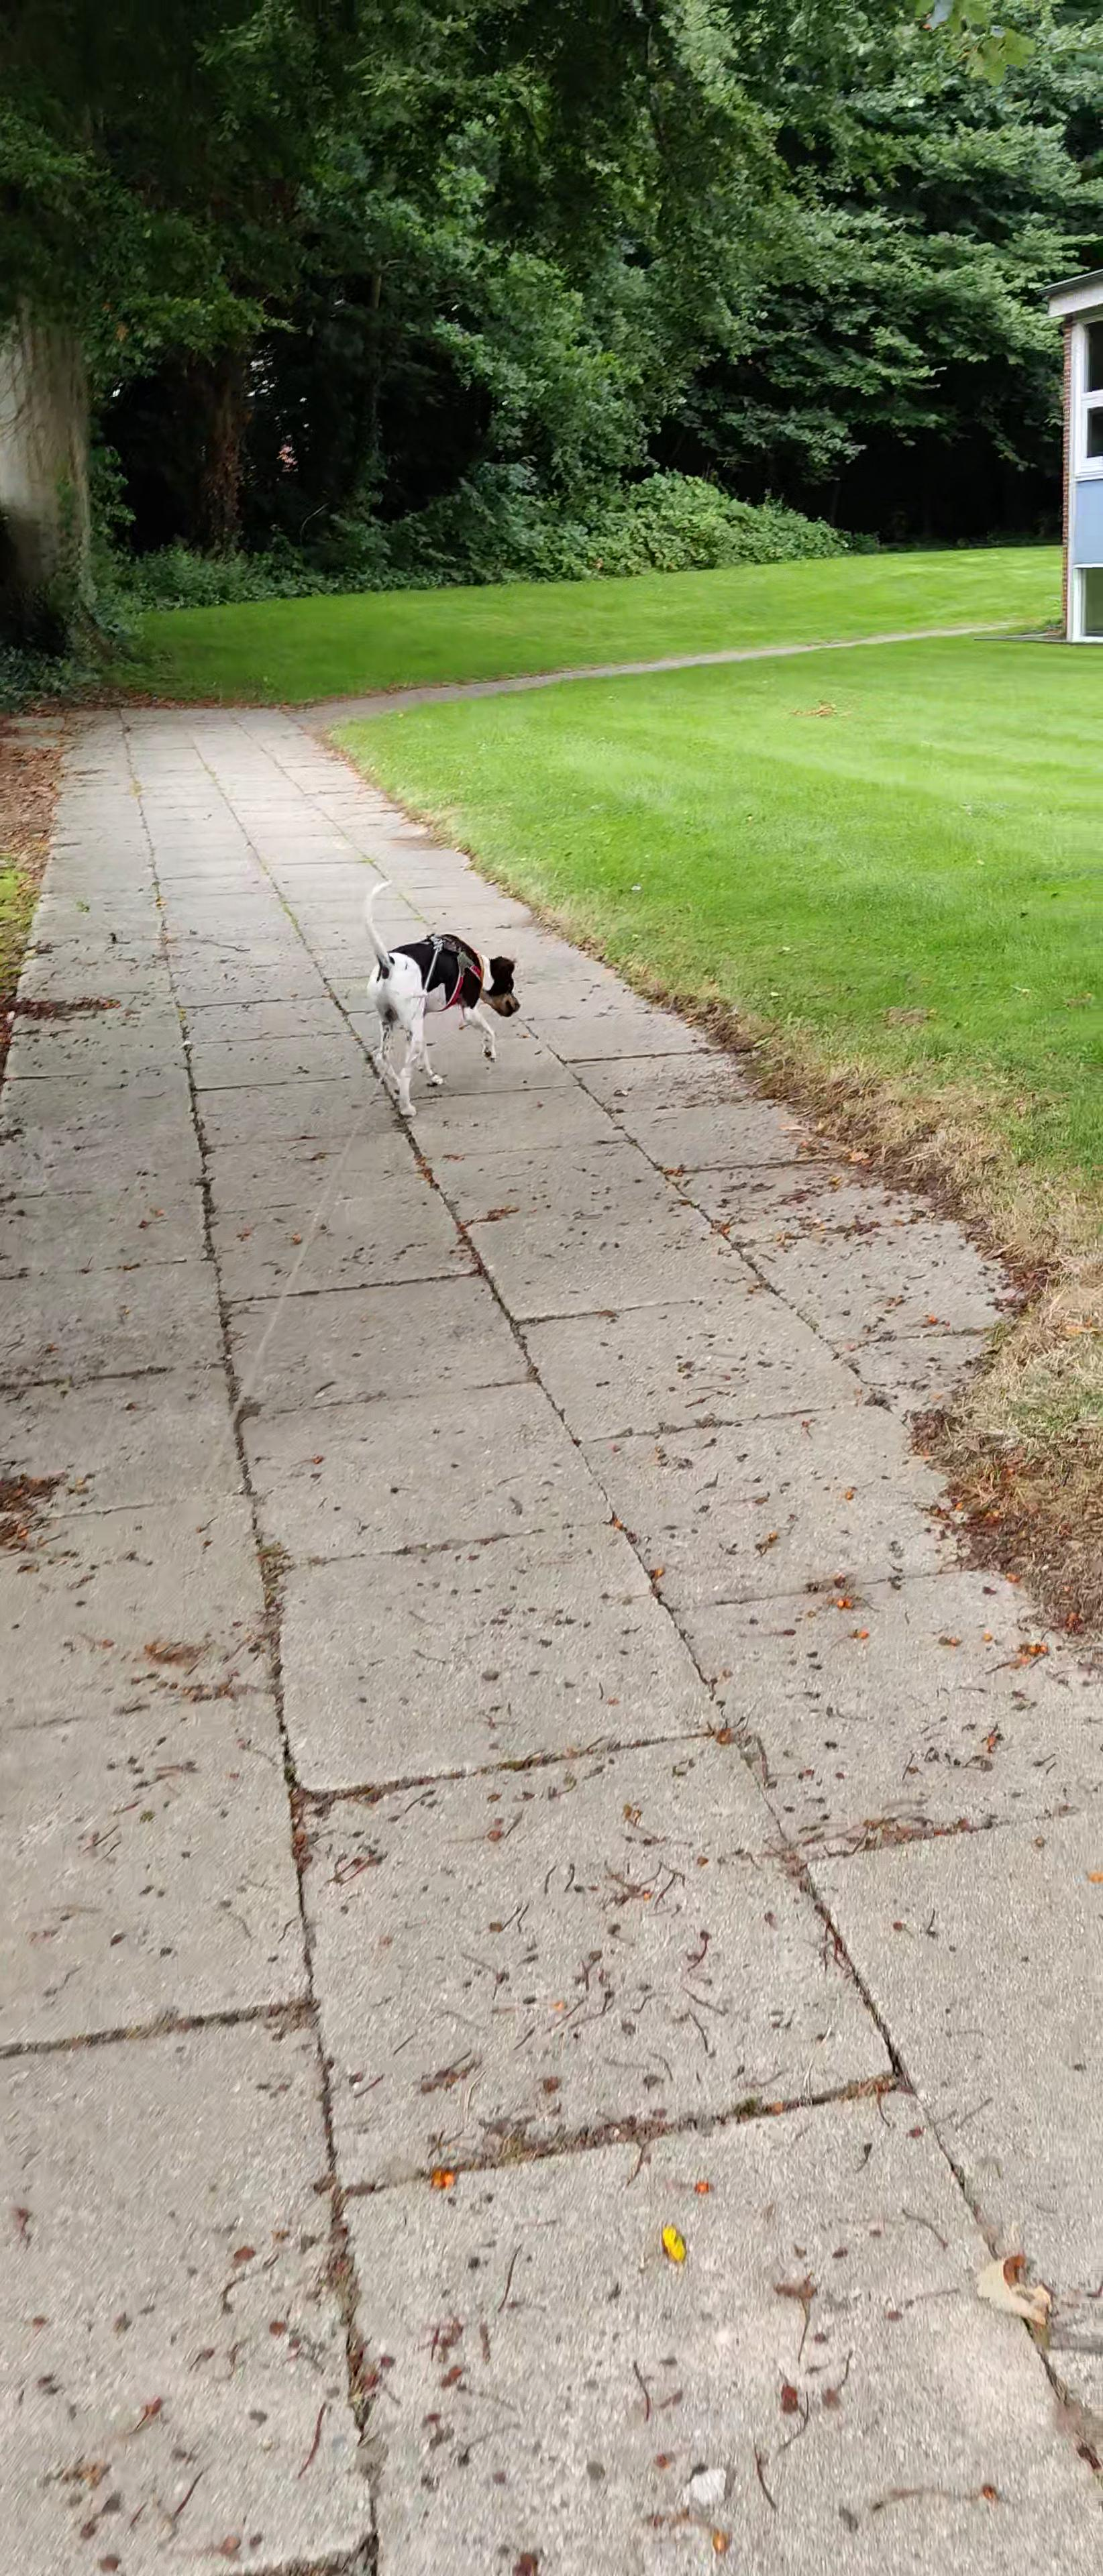Dog: (347, 876, 526, 1124)
